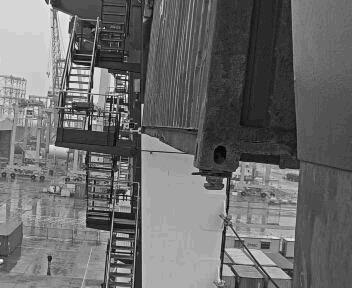twist_lock_1: (189, 167, 234, 199)
